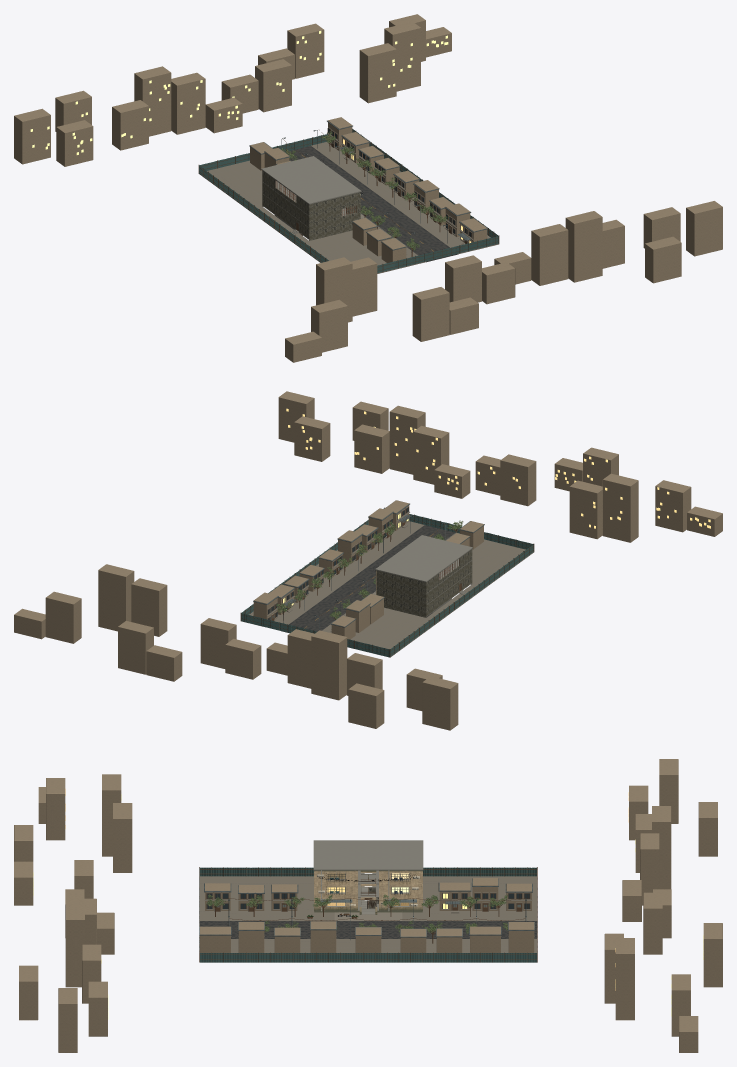
File: neighborhood_world.glb
The picture shows the model from 3 angles, top to bottom: view 1: azimuth 30°, elevation 25°; view 2: azimuth 150°, elevation 25°; view 3: azimuth 270°, elevation 25°; orthographic projection. The views are drawn at different scales.
Visible parts, largest first — view 1: Detail_District_True, Detail_District_False, Detail_Enclosures, WALK_Road, Roof_Cap, WALK_Sidewalk_East, WALK_Alley_South, WALK_Alley_North, WALK_Alley_Rear, COL_Gable_3_-1, COL_Gable_1_-1, Detail_Frontage_East_02 (+2 smaller); view 2: Detail_District_False, Detail_District_True, Detail_Enclosures, WALK_Road, Roof_Cap, WALK_Sidewalk_East, WALK_Alley_North, WALK_Alley_South, WALK_Alley_Rear, Detail_Frontage_East_04, COL_Gable_2_1, COL_Gable_3_1 (+3 smaller); view 3: Detail_District_True, Detail_District_False, Detail_Enclosures, Roof_Cap, WALK_Road, WALK_Alley_Rear, Detail_Floor_01, WALK_Sidewalk_West_North, WALK_Sidewalk_West_South, Detail_Floor_02, Detail_Floor_03, WALK_Alley_South (+22 smaller).
Boxes of the visible parts, x1,y1,x2,y2 form: Detail_District_True: [285, 201, 722, 362]; Detail_District_False: [14, 14, 451, 166]; Detail_Enclosures: [198, 129, 499, 272]; WALK_Road: [285, 146, 458, 262]; Roof_Cap: [261, 156, 361, 204]; WALK_Sidewalk_East: [311, 142, 473, 254]; WALK_Alley_South: [310, 230, 408, 273]; WALK_Alley_North: [212, 160, 263, 206]; WALK_Alley_Rear: [199, 170, 334, 262]; COL_Gable_3_-1: [309, 192, 360, 216]; COL_Gable_1_-1: [309, 216, 360, 240]; Detail_Frontage_East_02: [444, 203, 471, 236]; Detail_District_False: [14, 564, 458, 730]; Detail_District_True: [278, 391, 722, 542]; Detail_Enclosures: [240, 507, 534, 657]; WALK_Road: [281, 525, 455, 633]; Roof_Cap: [375, 535, 472, 582]; WALK_Sidewalk_East: [274, 521, 424, 624]; WALK_Alley_North: [348, 607, 425, 651]; WALK_Alley_South: [471, 539, 520, 584]; WALK_Alley_Rear: [381, 548, 533, 657]; Detail_Frontage_East_04: [337, 530, 363, 563]; COL_Gable_2_1: [376, 582, 426, 605]; COL_Gable_3_1: [376, 570, 426, 593]; Detail_District_True: [14, 774, 132, 1052]; Detail_District_False: [604, 759, 722, 1052]; Detail_Enclosures: [199, 867, 537, 962]; Roof_Cap: [313, 840, 423, 870]; WALK_Road: [200, 921, 536, 938]; WALK_Alley_Rear: [200, 876, 536, 883]; Detail_Floor_01: [307, 870, 422, 918]; WALK_Sidewalk_West_North: [402, 911, 536, 920]; WALK_Sidewalk_West_South: [200, 911, 334, 920]; Detail_Floor_02: [314, 883, 422, 897]; Detail_Floor_03: [314, 870, 422, 883]; WALK_Alley_South: [200, 883, 313, 910].
Bounding box in the file's own units: 129 × 19.37 × 158.
110 materials, 25 textured.
